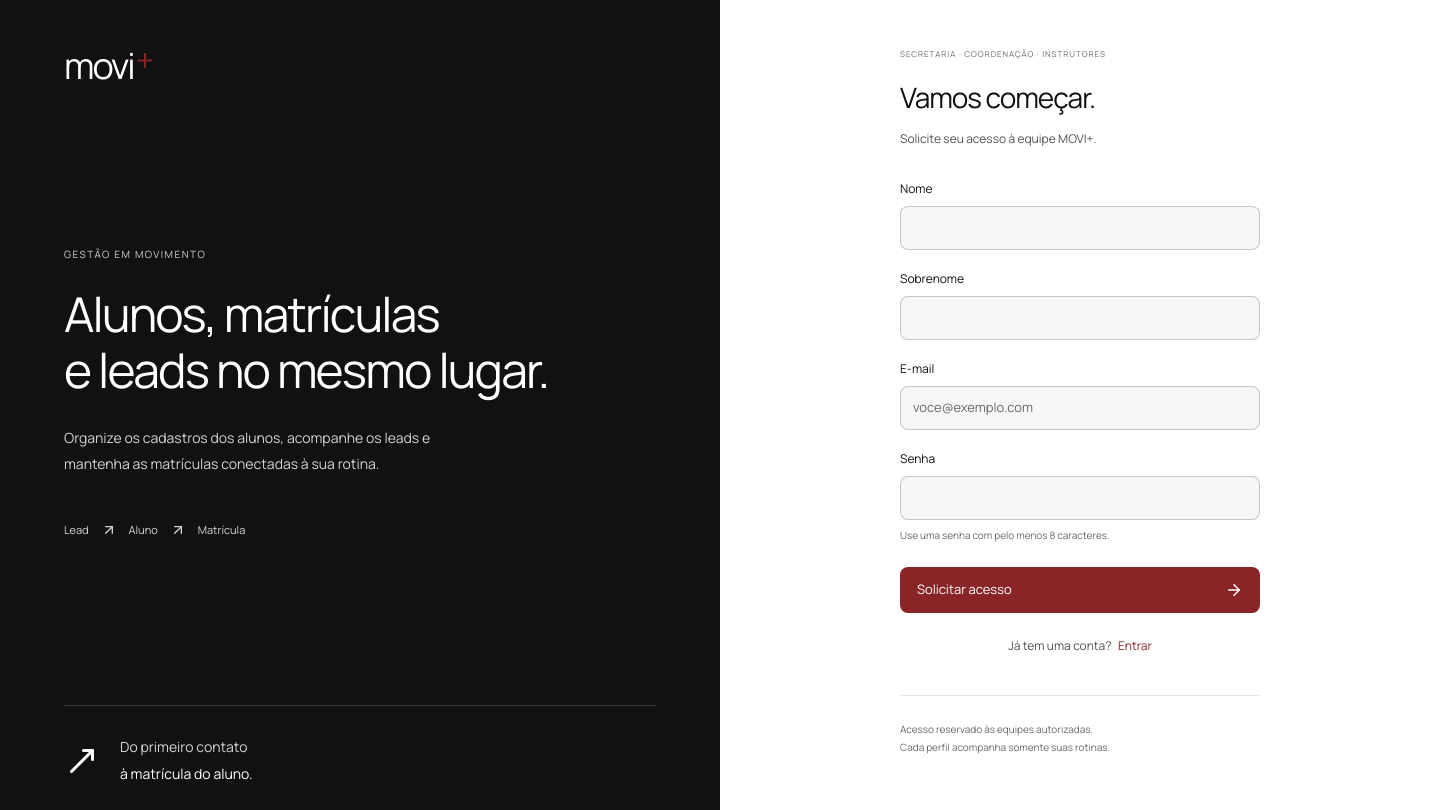
Test: acesso › confirma solicitação como pendente, sem afirmar aprovação
Type "Maria" into the field labelled "Nome" at coordinates (1080, 228), box x1=900 y1=206 x2=1260 y2=250
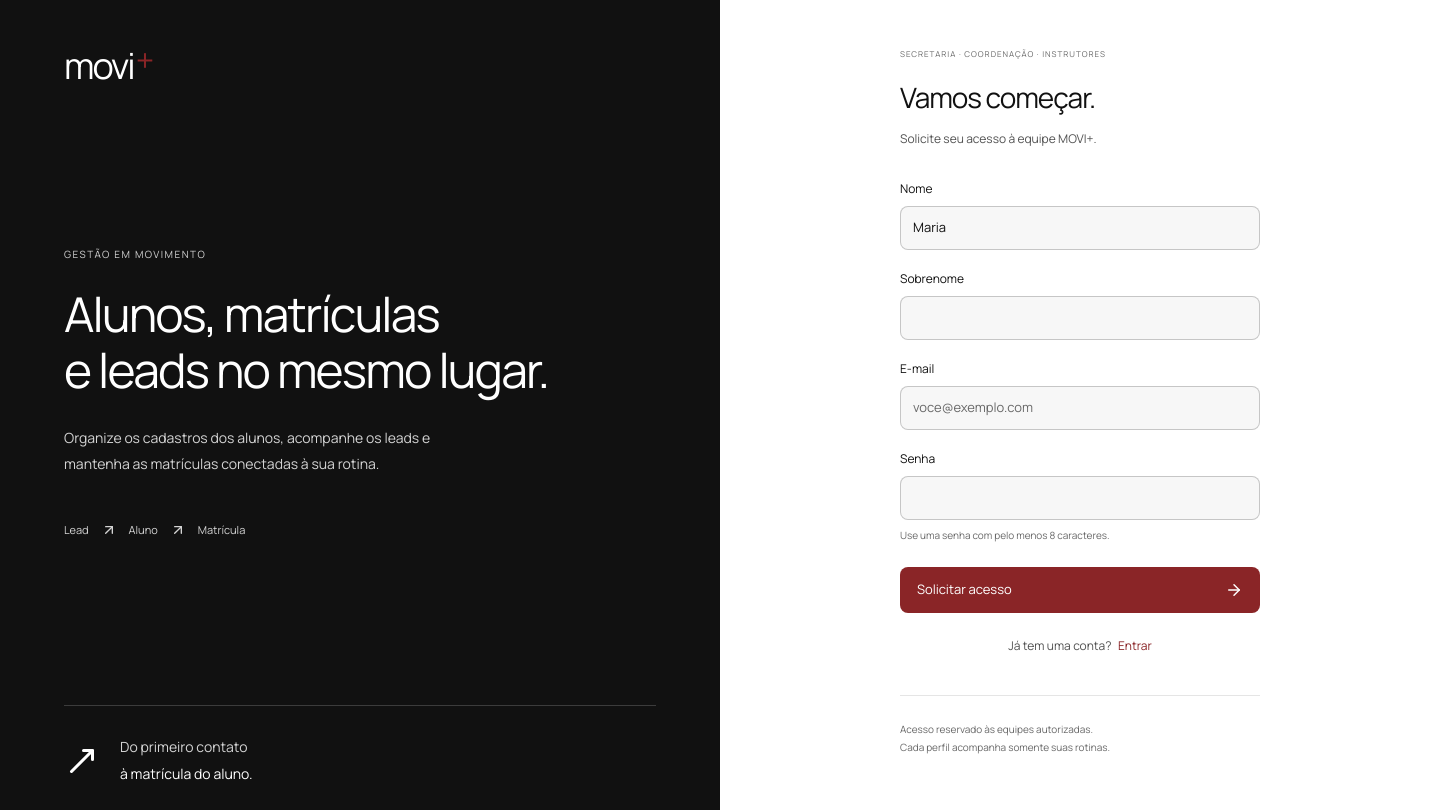
Type "Silva" into the field labelled "Sobrenome" at coordinates (1080, 318), box x1=900 y1=296 x2=1260 y2=340
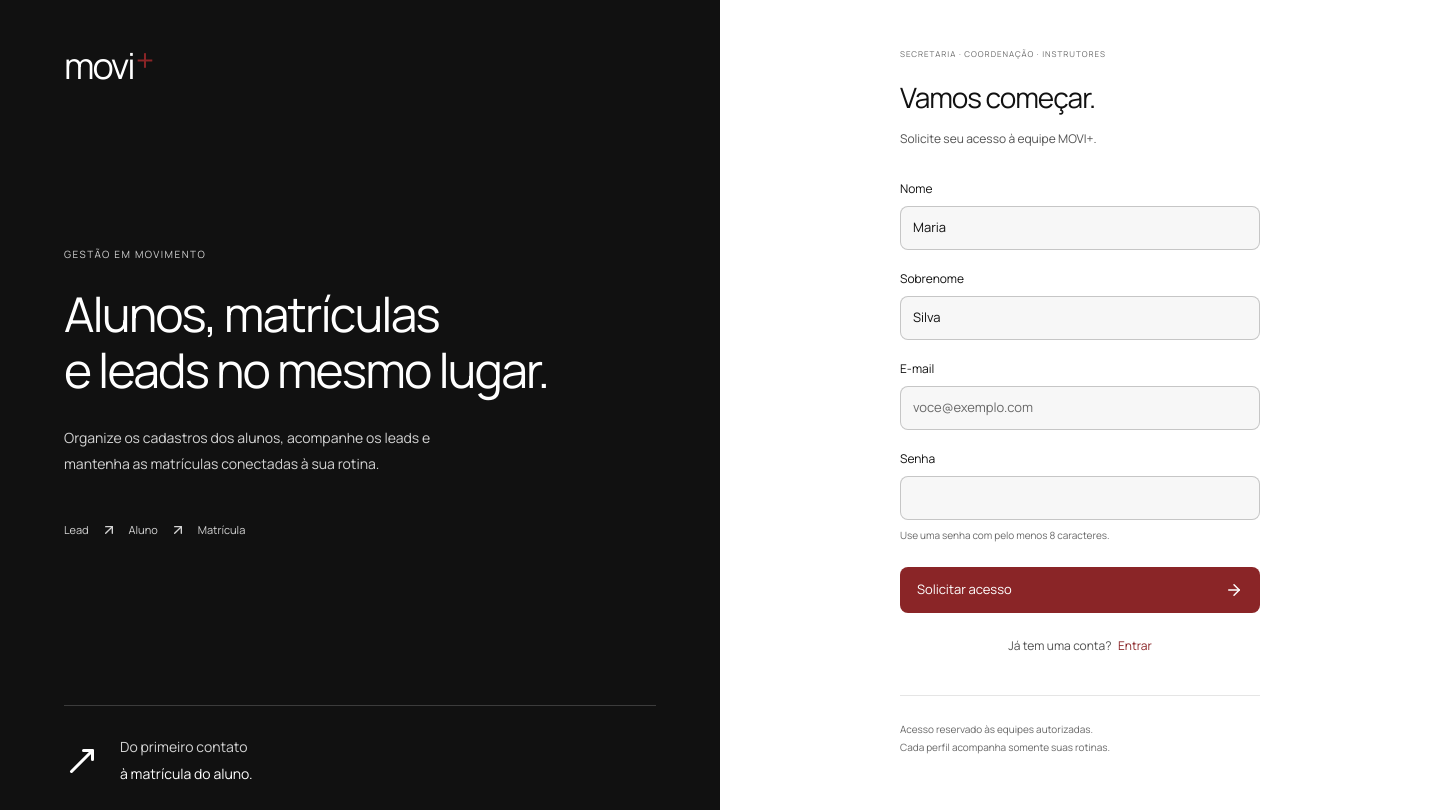
Type "maria@exemplo.com" into the field labelled "E-mail" at coordinates (1080, 408), box x1=900 y1=386 x2=1260 y2=430
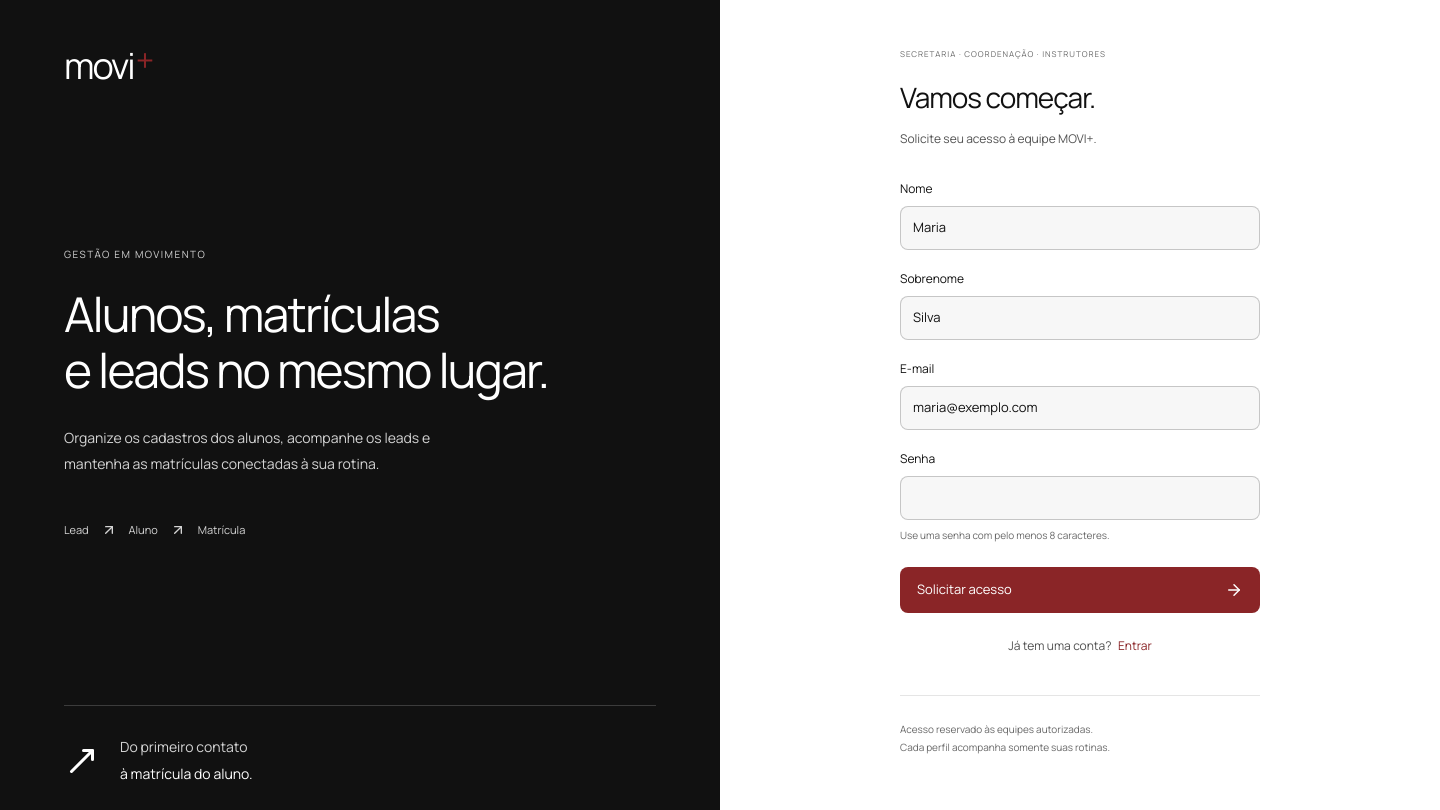
Type "SenhaSecreta123" into the password field labelled "Senha" at coordinates (1080, 498), box x1=900 y1=476 x2=1260 y2=520
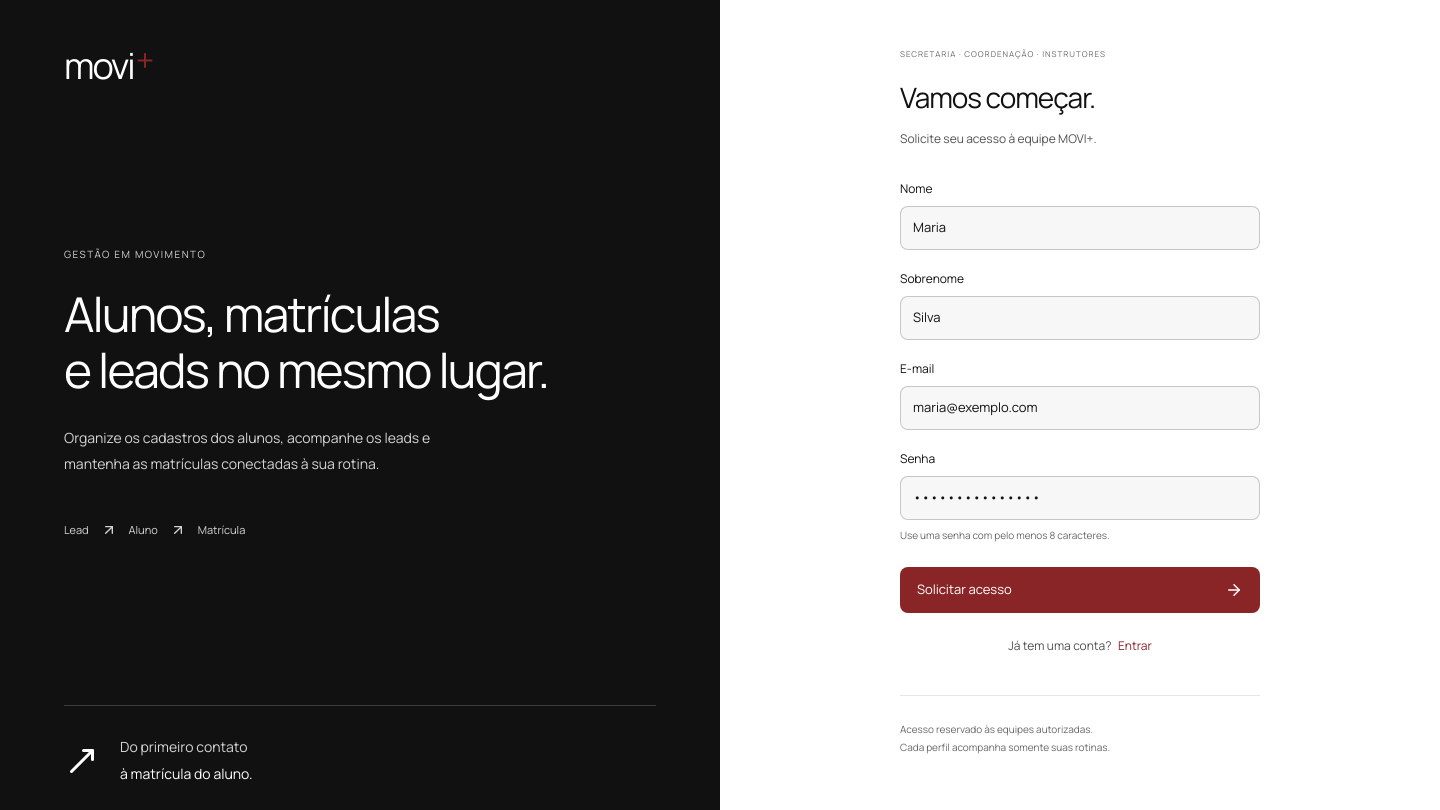
Click the button "Solicitar acesso" at coordinates (964, 589), box x1=900 y1=567 x2=1260 y2=612
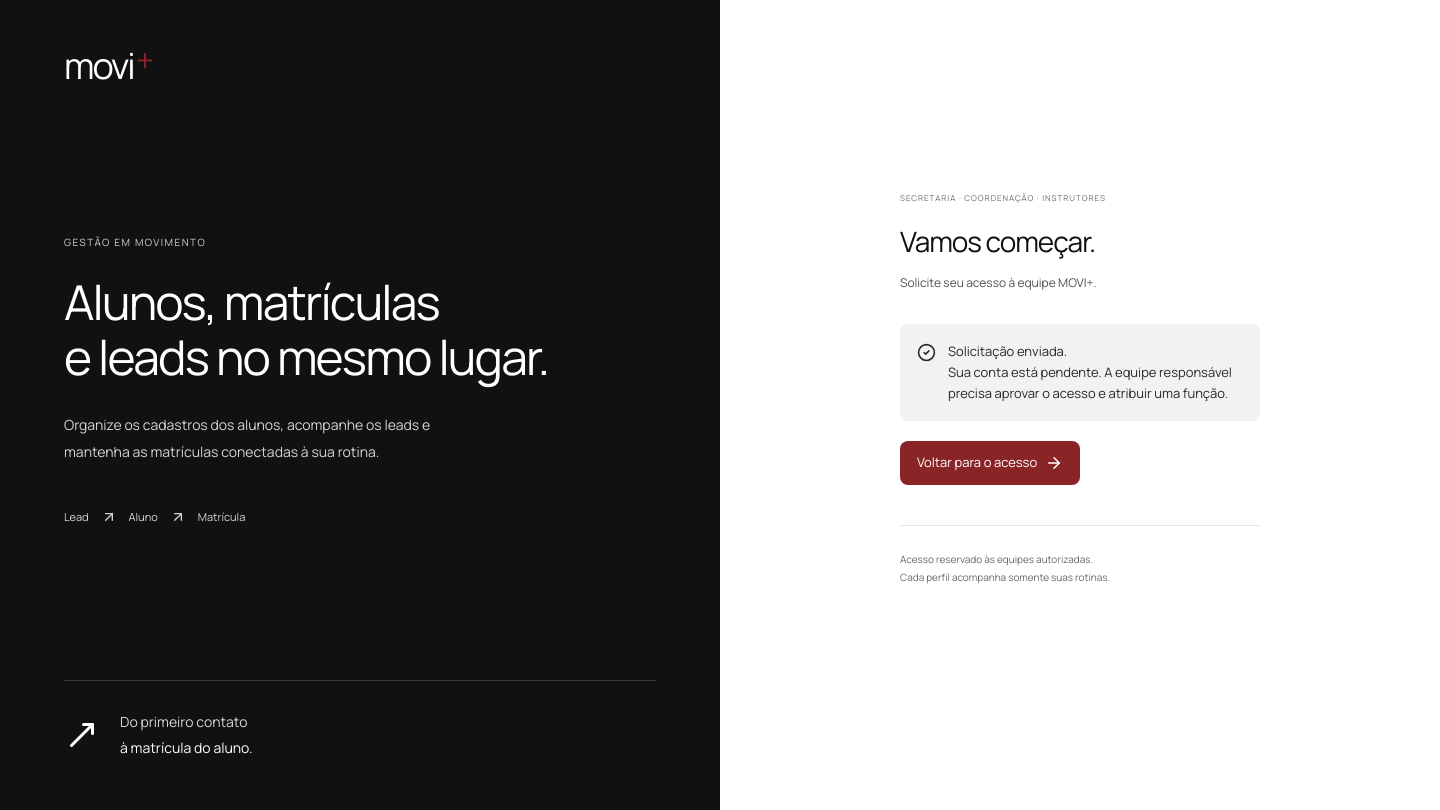
Result: the message shows "Sua conta está pendente" at x1=948 y1=363 x2=1232 y2=402
